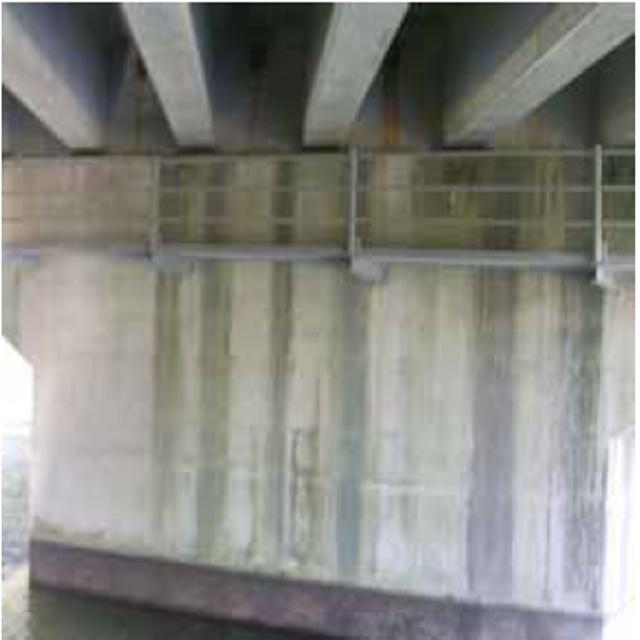leakage: (156, 161, 607, 613)
